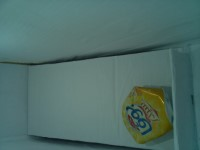kaleng: (122, 86, 174, 144)
